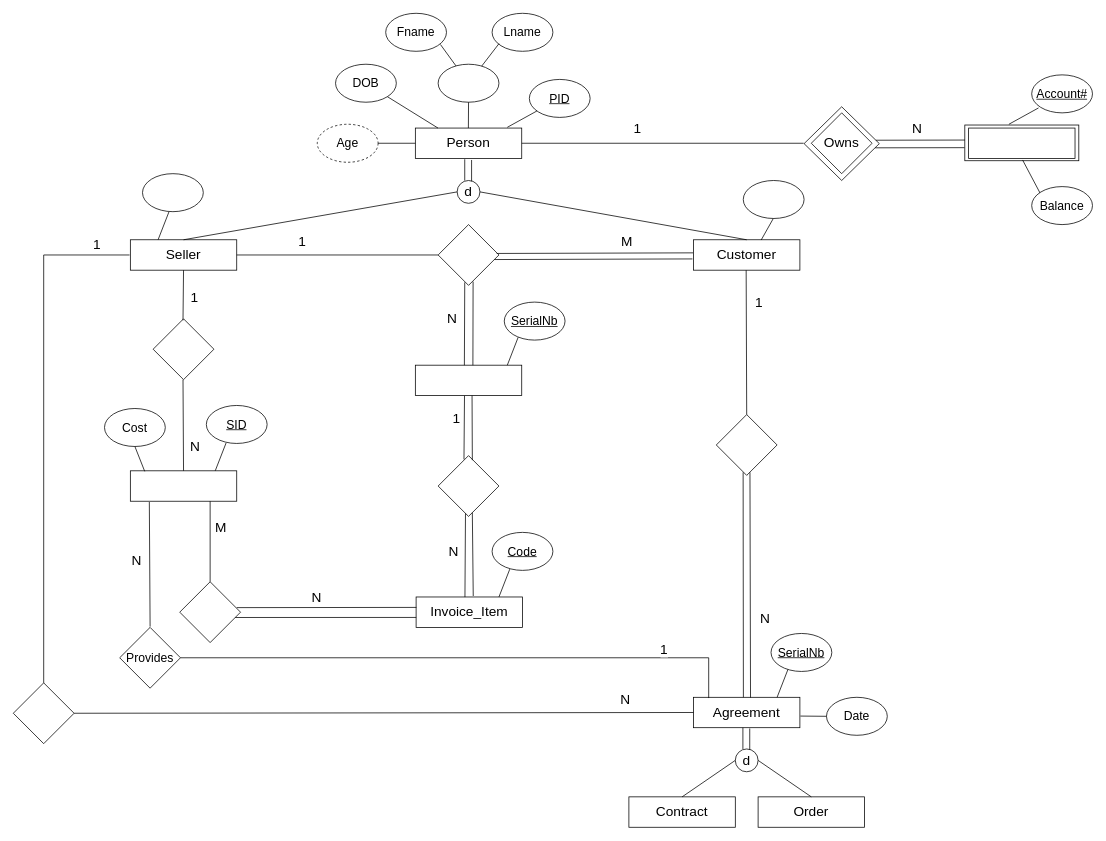
The diagram is 1106 pixels wide and 841 high, and some of its shapes have lost their labels. Here are the shapes that lost their labels. From the top down, the box of each, then its label:
(437, 63, 499, 102): Name
(968, 127, 1075, 158): Bank_Account
(142, 173, 203, 212): Salary
(743, 180, 804, 218): QueueNb
(437, 224, 499, 285): Issues
(152, 318, 214, 380): Offers
(415, 364, 522, 396): Invoice
(716, 414, 777, 475): Sign
(130, 470, 237, 501): Service
(437, 455, 499, 516): Contains
(179, 581, 241, 643): Consists of
(13, 682, 74, 744): Makes
